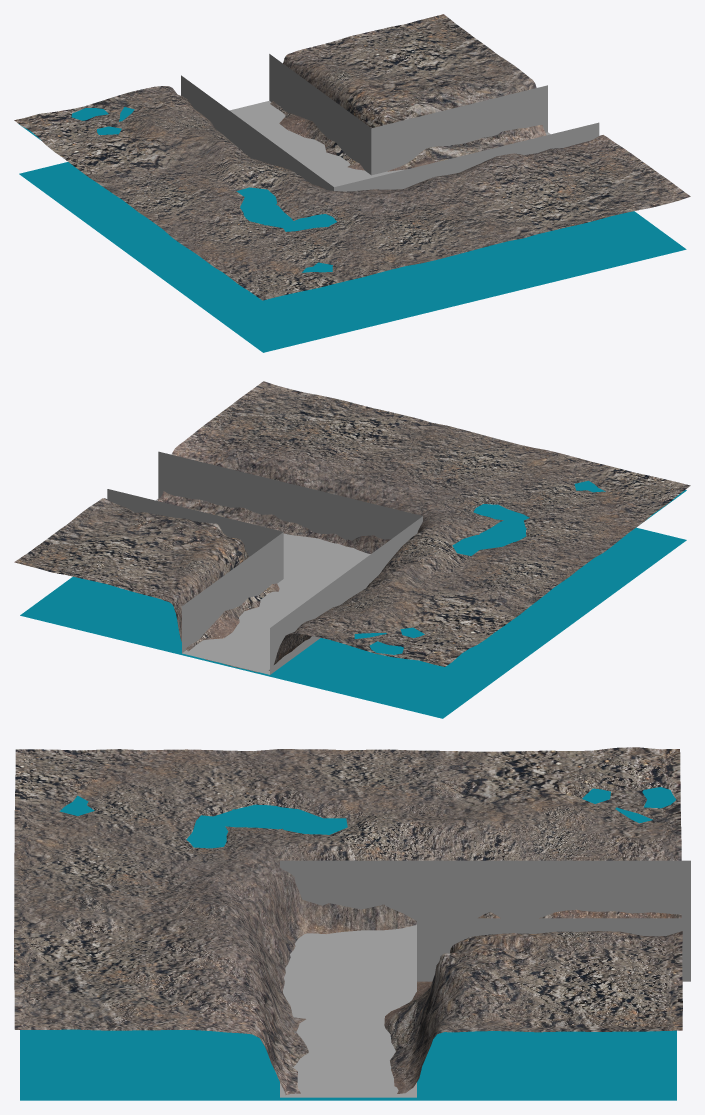
The picture shows the model from 3 angles, top to bottom: view 1: azimuth 30°, elevation 25°; view 2: azimuth 150°, elevation 25°; view 3: azimuth 270°, elevation 25°; orthographic projection. The views are drawn at different scales.
Parts seen in each view (by area): view 1: L_B_surface_GEO, water_GEO, z_1_x1_COL; view 2: L_B_surface_GEO, water_GEO, z_1_x1_COL; view 3: L_B_surface_GEO, z_1_x1_COL, water_GEO.
Part boxes in pixels (<box>): L_B_surface_GEO: <box>14,14,690,300</box>; water_GEO: <box>19,107,686,352</box>; z_1_x1_COL: <box>181,54,599,191</box>; L_B_surface_GEO: <box>14,381,690,672</box>; water_GEO: <box>20,480,686,718</box>; z_1_x1_COL: <box>107,451,422,674</box>; L_B_surface_GEO: <box>14,747,682,1094</box>; z_1_x1_COL: <box>280,860,690,1097</box>; water_GEO: <box>20,787,676,1100</box>.
Size of the model in its own units: 494 by 71.03 by 494.
